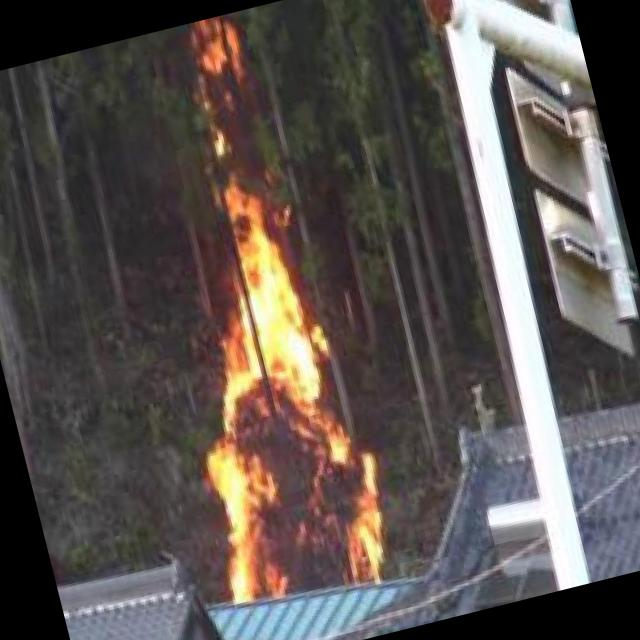Fire: (132, 142, 416, 614), (175, 16, 264, 115)
